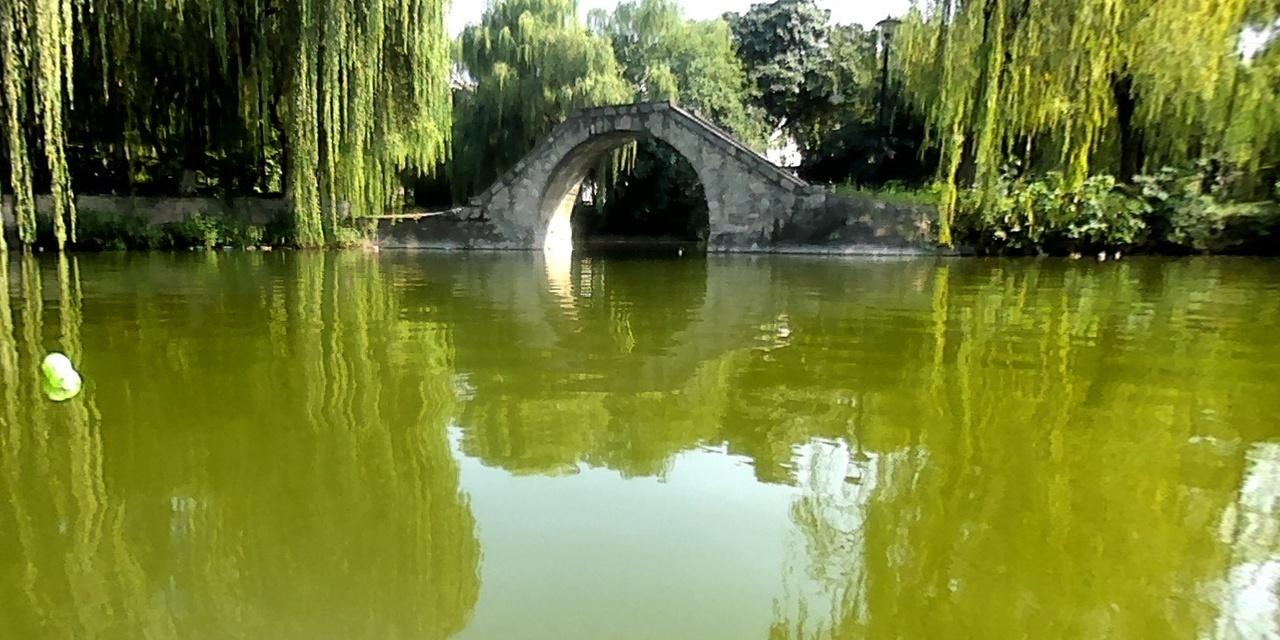bottle: (41, 352, 82, 395)
